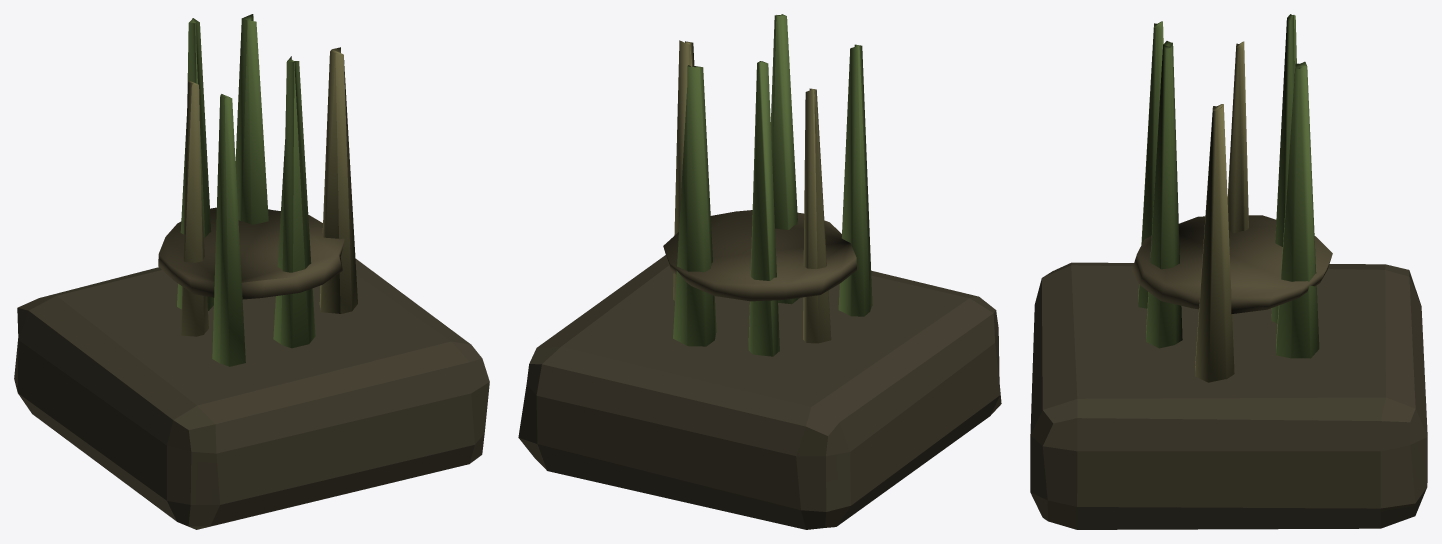
Rendered from wall_region2_v3.glb.
3 renders of one model, left to right at view 1: azimuth 30°, elevation 25°; view 2: azimuth 150°, elevation 25°; view 3: azimuth 270°, elevation 25°, orthographic. The views are drawn at different scales.
Visible parts, largest first — view 1: wall_region2_v3; view 2: wall_region2_v3; view 3: wall_region2_v3.
Boxes of the visible parts, left/top/right/bottom form: wall_region2_v3: left=14, top=14, right=489, bottom=529; wall_region2_v3: left=518, top=14, right=1001, bottom=529; wall_region2_v3: left=1030, top=14, right=1427, bottom=529.
Bounding box in the file's own units: 0.9417 × 1.15 × 0.9541.
